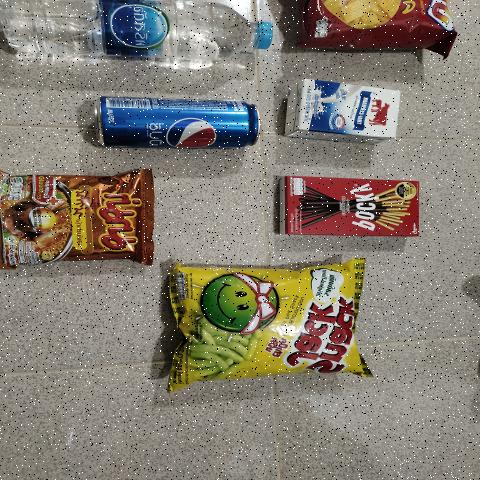crystal: (0, 0, 273, 64)
mama: (0, 174, 146, 256)
pepsi_blue: (88, 99, 264, 155)
pokki: (280, 178, 420, 232)
snack_jack: (170, 266, 359, 379)
thai_denmark: (283, 82, 406, 136)
